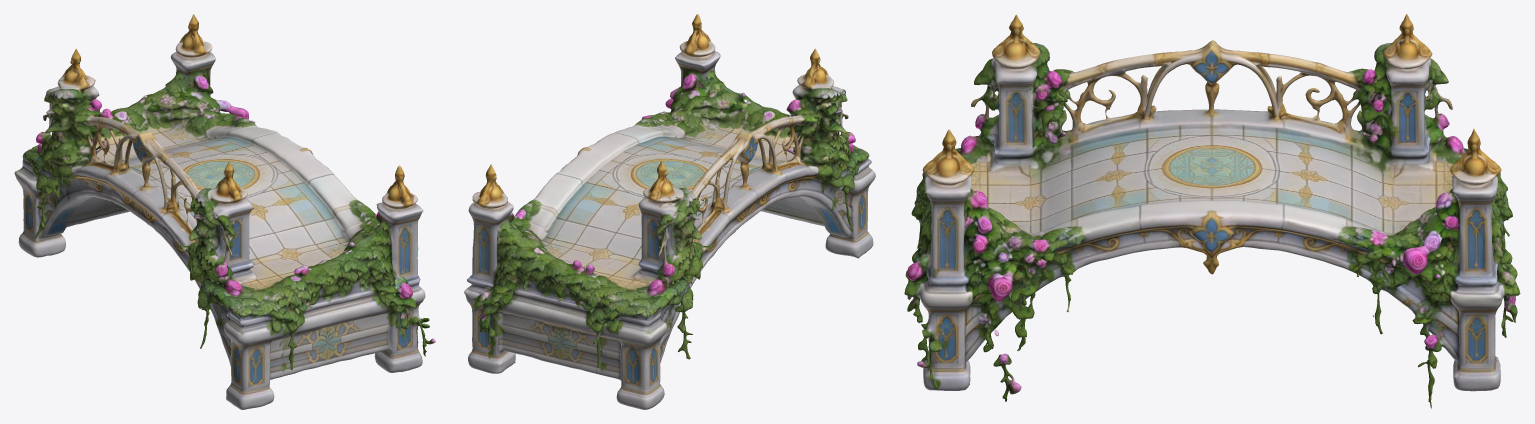
The picture shows the model from 3 angles, left to right: view 1: azimuth 30°, elevation 25°; view 2: azimuth 150°, elevation 25°; view 3: azimuth 270°, elevation 25°; orthographic projection. The views are drawn at different scales.
Parts seen in each view (by area): view 1: tripo_node_07ef1cc8-e403-4d43-a33f-66fe58b08272; view 2: tripo_node_07ef1cc8-e403-4d43-a33f-66fe58b08272; view 3: tripo_node_07ef1cc8-e403-4d43-a33f-66fe58b08272.
Part boxes in pixels (<box>): tripo_node_07ef1cc8-e403-4d43-a33f-66fe58b08272: <box>14,14,435,409</box>; tripo_node_07ef1cc8-e403-4d43-a33f-66fe58b08272: <box>464,14,875,409</box>; tripo_node_07ef1cc8-e403-4d43-a33f-66fe58b08272: <box>904,14,1520,408</box>.
Size of the model in its own units: 0.4908 by 0.5202 by 0.9704.
1 material, 1 textured.
